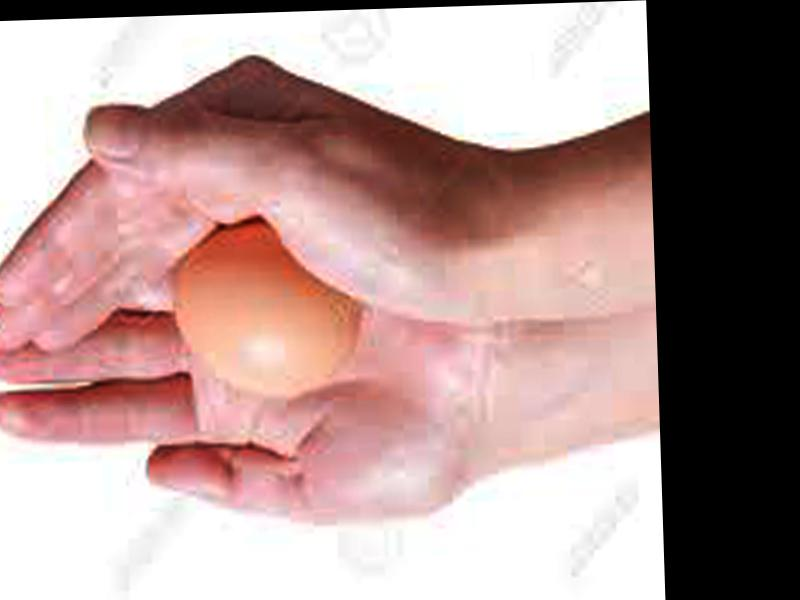Eggs: (172, 222, 352, 392)
